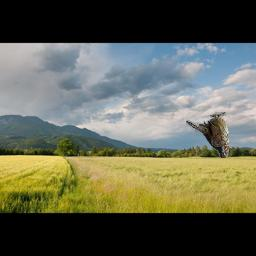Sparrow: (187, 112, 230, 158)
